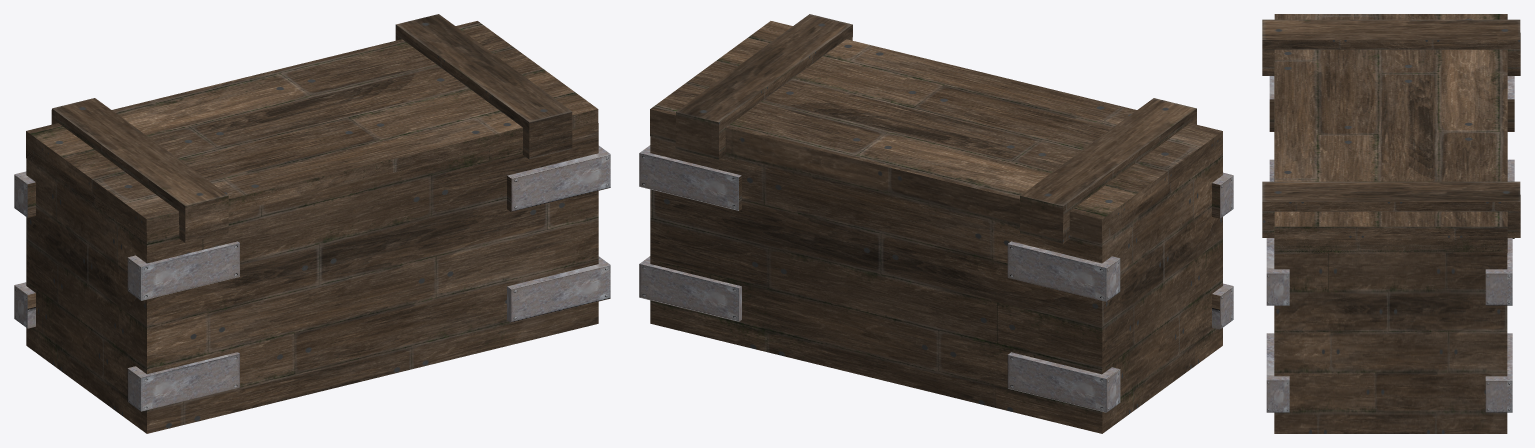
File: Basement Box.fbx
3 renders of one model, left to right at view 1: azimuth 30°, elevation 25°; view 2: azimuth 150°, elevation 25°; view 3: azimuth 270°, elevation 25°, orthographic. The views are drawn at different scales.
Parts seen in each view (by area): view 1: Cube.089, Cube.090; view 2: Cube.089, Cube.090; view 3: Cube.090, Cube.089.
Part boxes in pixels (bbox=[...]): Cube.089: bbox=[14, 123, 610, 433]; Cube.090: bbox=[26, 14, 598, 245]; Cube.089: bbox=[639, 136, 1233, 433]; Cube.090: bbox=[650, 14, 1222, 246]; Cube.090: bbox=[1262, 14, 1520, 252]; Cube.089: bbox=[1266, 63, 1514, 433].
Bounding box in the file's own units: 418 × 191 × 207.
